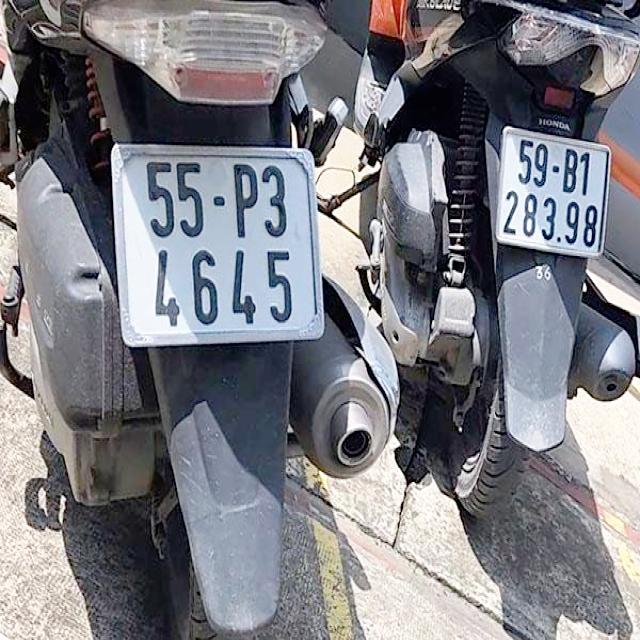license_plate: (117, 149, 319, 342), (501, 132, 611, 257)
